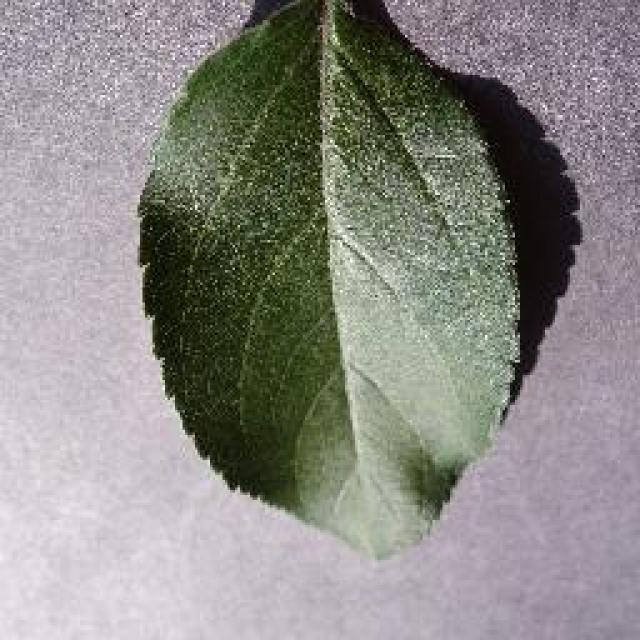apple healthy: (132, 0, 528, 560)
